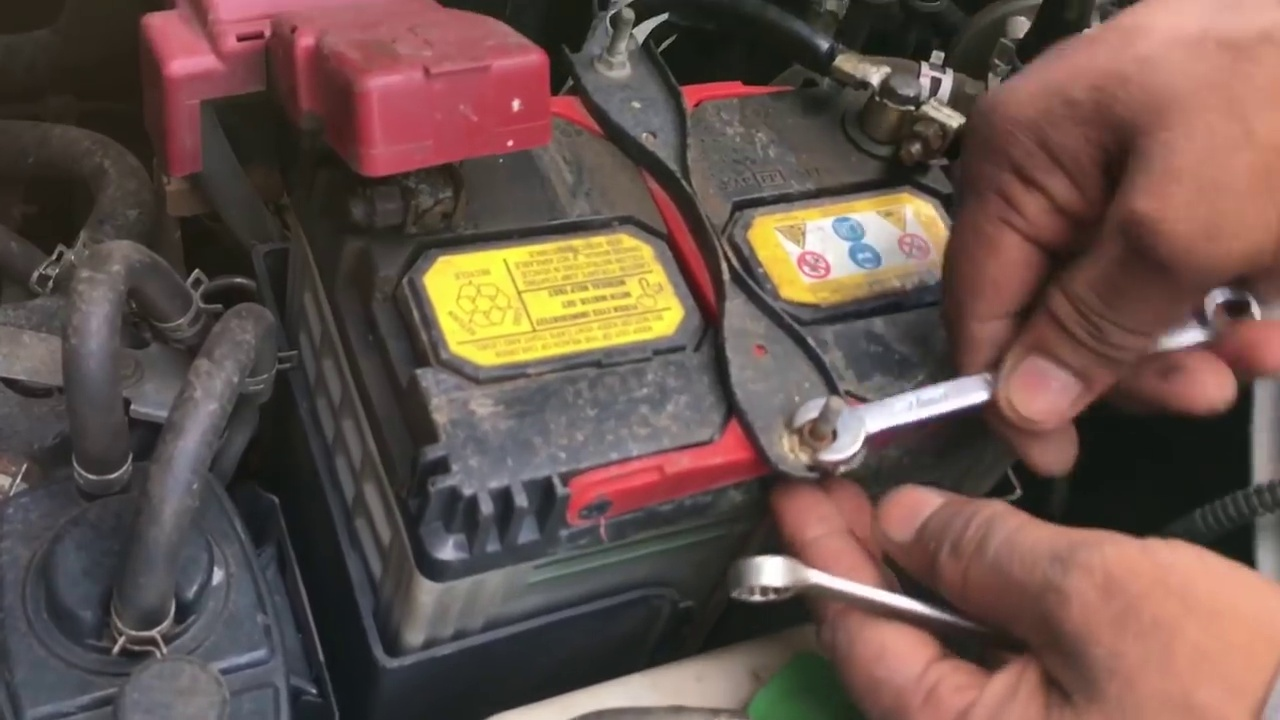battery: (258, 24, 1078, 594)
neg_connected: (762, 7, 954, 195)
neg_touched: (831, 20, 1213, 382)
pos_connected: (163, 1, 520, 268)
